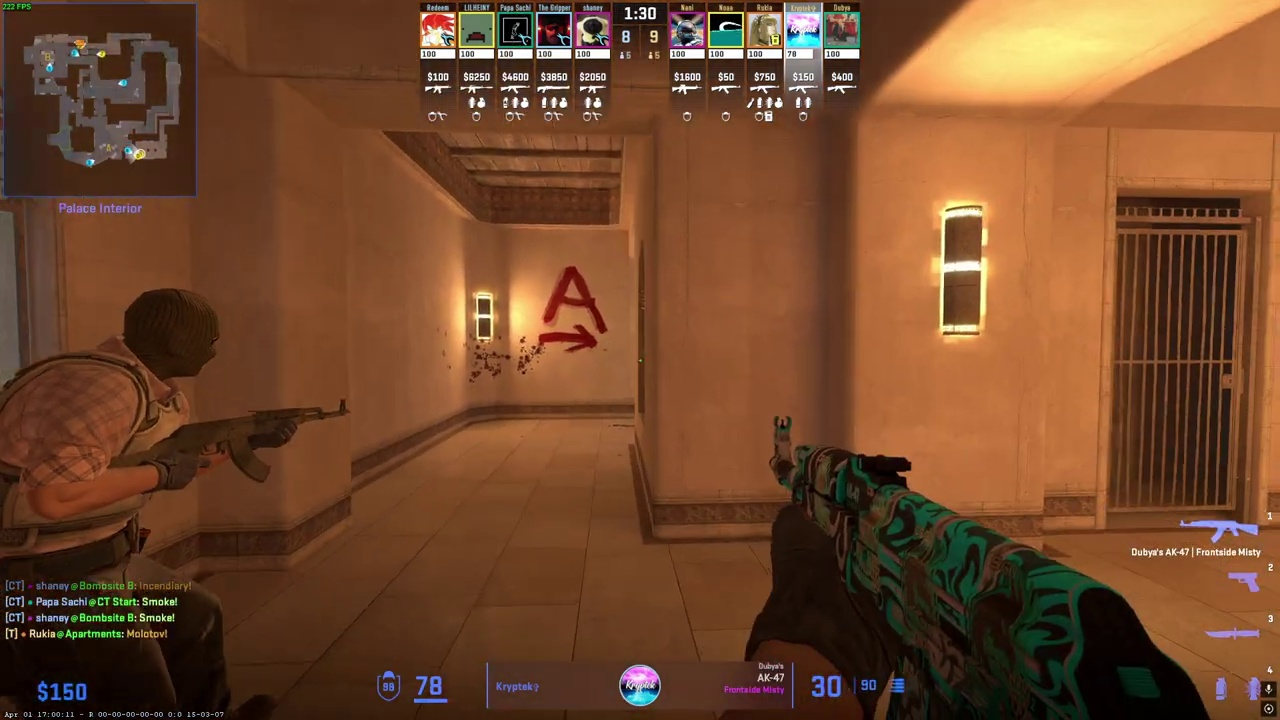Terrorist: (1, 288, 226, 720)
